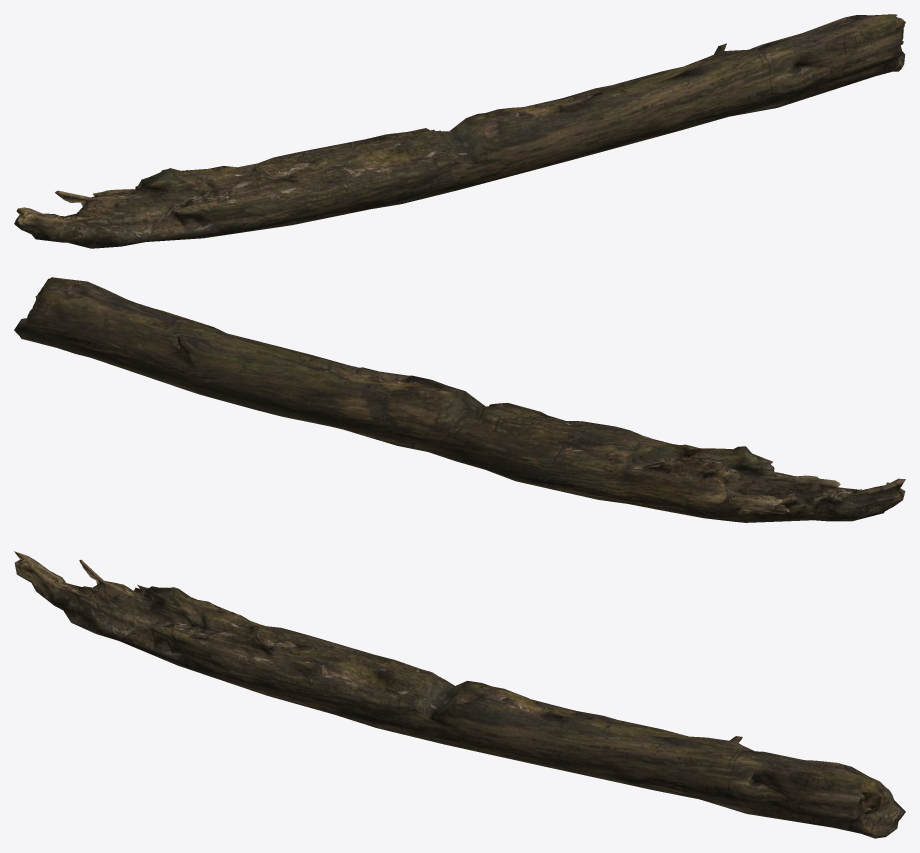
The model's file is dead_tree_trunk.glb.
3 views of the same model, one above another, from view 1: azimuth 30°, elevation 25°; view 2: azimuth 150°, elevation 25°; view 3: azimuth 330°, elevation 25° (orthographic).
Parts seen in each view (by area): view 1: dead_tree_trunk; view 2: dead_tree_trunk; view 3: dead_tree_trunk.
Boxes of the visible parts, x1,y1,x2,y2 form: dead_tree_trunk: [14, 14, 905, 248]; dead_tree_trunk: [14, 277, 905, 522]; dead_tree_trunk: [14, 551, 905, 838].
Size of the model in its own units: 3.04 by 0.2869 by 0.2746.
1 material, 1 textured.
